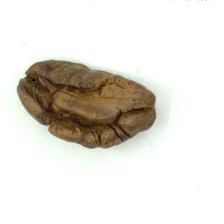NG: (20, 61, 149, 148)
